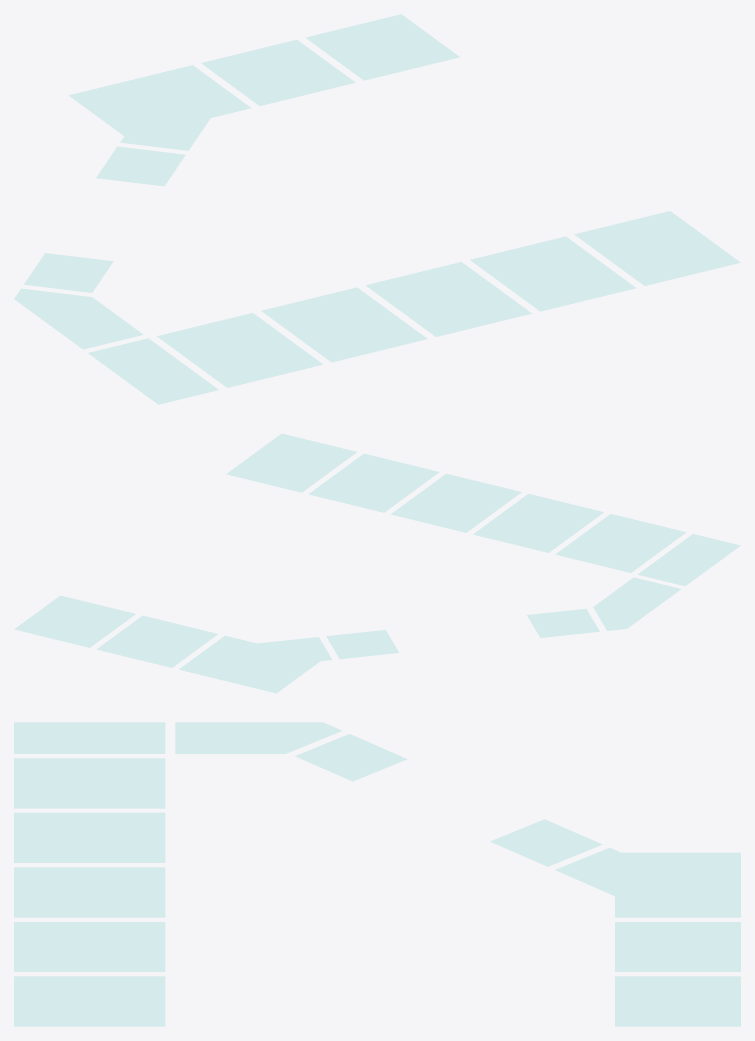
Rendered from WaterSurface.fbx.
3 views of the same model, one above another, from view 1: azimuth 30°, elevation 25°; view 2: azimuth 150°, elevation 25°; view 3: azimuth 270°, elevation 25° (orthographic). The views are drawn at different scales.
Parts seen in each view (by area): view 1: Object_105.001; view 2: Object_105.001; view 3: Object_105.001.
Boxes of the visible parts, x1=… form: Object_105.001: x1=14, y1=14, x2=740, y2=404; Object_105.001: x1=14, y1=434, x2=740, y2=693; Object_105.001: x1=14, y1=722, x2=740, y2=1026.
Size of the model in its own units: 2762 by 0.00109 by 2789.
